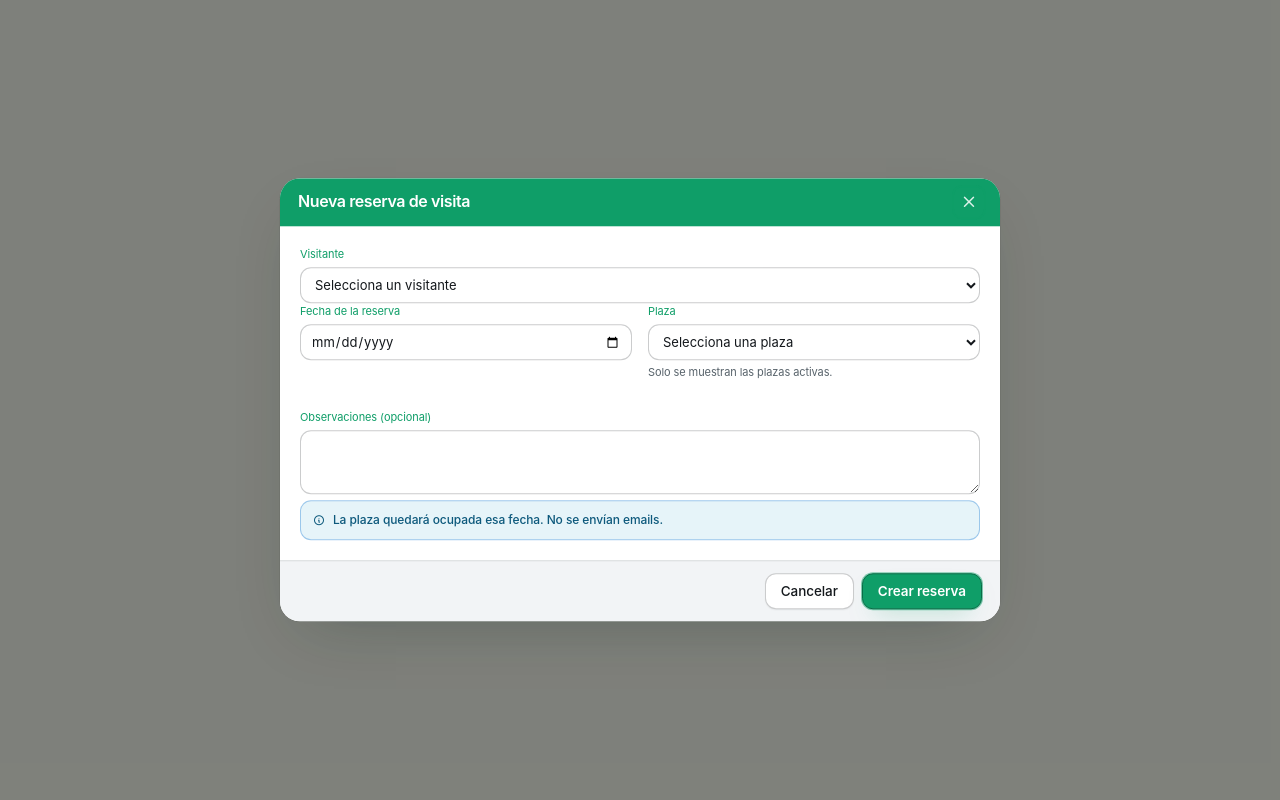
Test case: VisitorReservationModal › should_show_required_error_when_submitting_without_fields
Step 1. Click the button "Crear reserva" → (922, 592), box [862, 574, 982, 610]
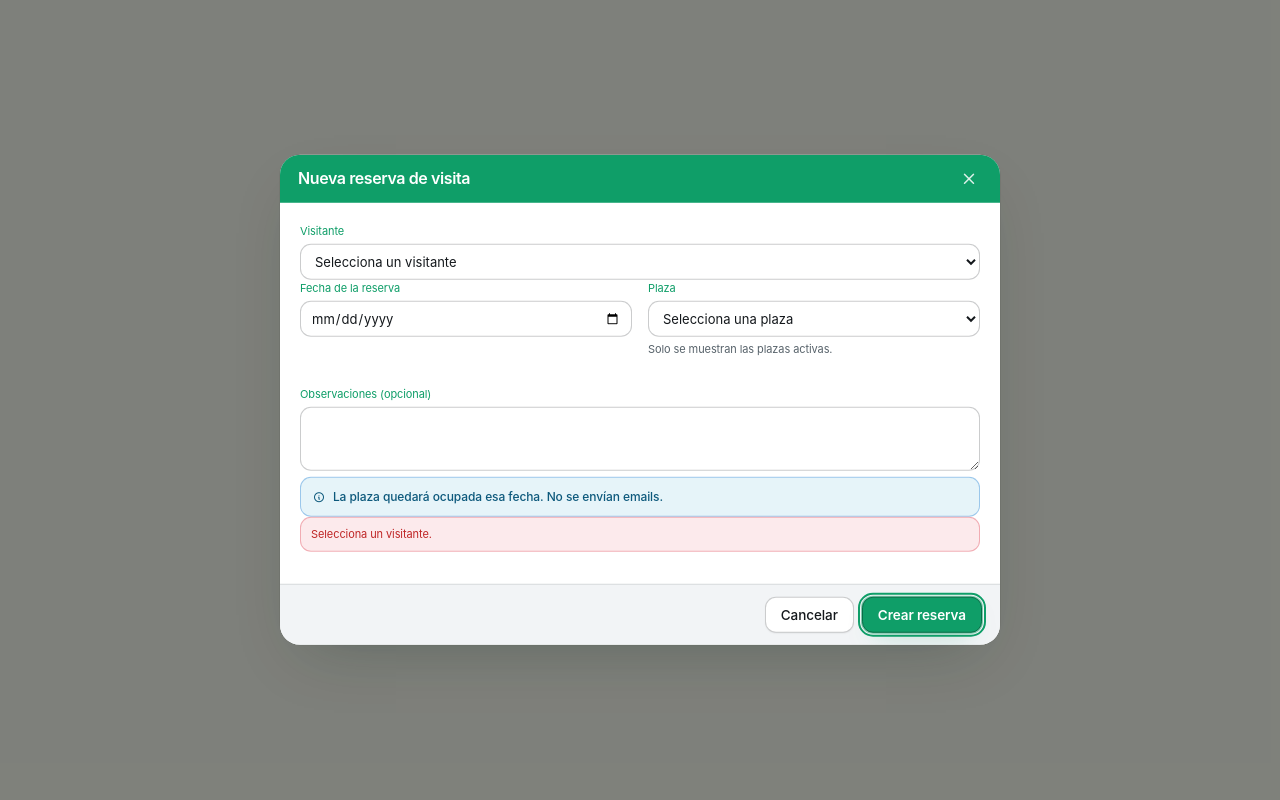
Now the message "Selecciona un visitante." is shown, box [300, 517, 980, 552]
